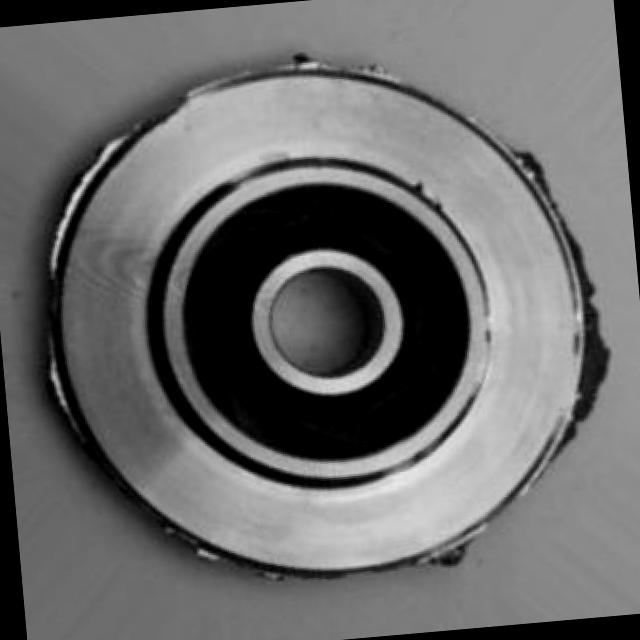Defect: (573, 303, 620, 405)
